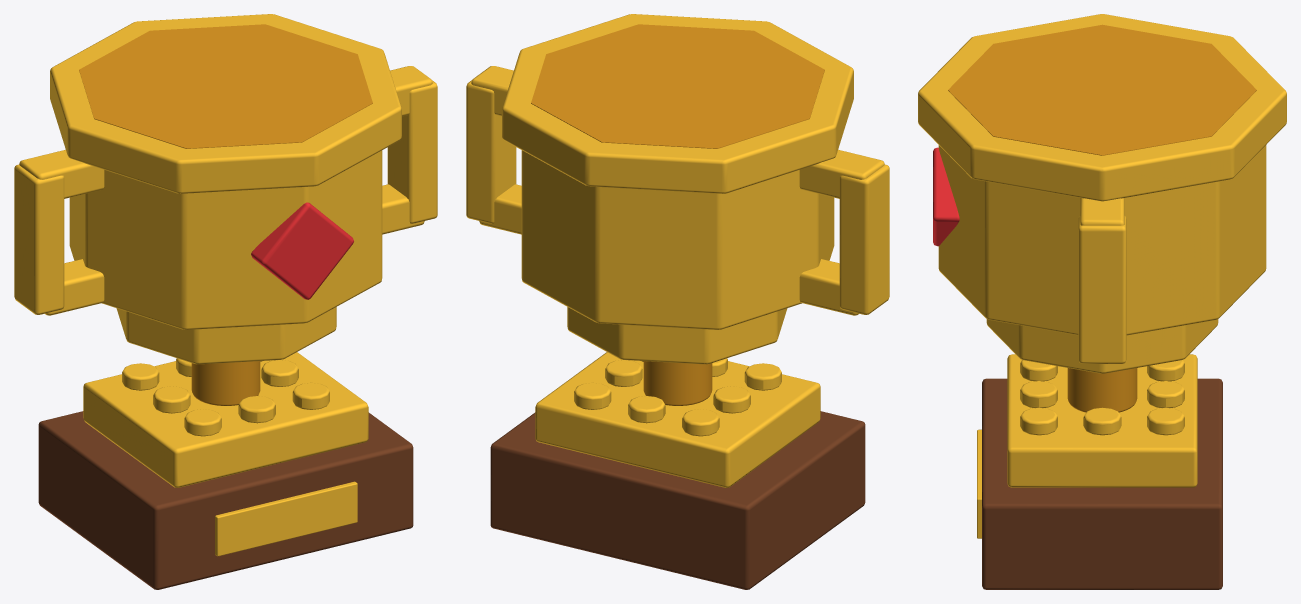
File: Trophy.fbx
3 renders of one model, left to right at view 1: azimuth 30°, elevation 25°; view 2: azimuth 150°, elevation 25°; view 3: azimuth 270°, elevation 25°, orthographic.
Parts seen in each view (by area): view 1: Trophy_Foil, Trophy_SmoothPlastic, Trophy_Glass_e83034; view 2: Trophy_Foil, Trophy_SmoothPlastic; view 3: Trophy_Foil, Trophy_SmoothPlastic, Trophy_Glass_e83034.
Part boxes in pixels (left/top/right/bottom): Trophy_Foil: left=14, top=14, right=437, bottom=556; Trophy_SmoothPlastic: left=38, top=411, right=413, bottom=589; Trophy_Glass_e83034: left=251, top=202, right=353, bottom=299; Trophy_Foil: left=466, top=14, right=889, bottom=487; Trophy_SmoothPlastic: left=490, top=411, right=865, bottom=589; Trophy_Foil: left=918, top=14, right=1286, bottom=538; Trophy_SmoothPlastic: left=982, top=378, right=1222, bottom=589; Trophy_Glass_e83034: left=933, top=147, right=959, bottom=246.
Bounding box in the file's own units: 1.49 × 1.52 × 1.16.
Materials: 3 (3 with a texture image).
